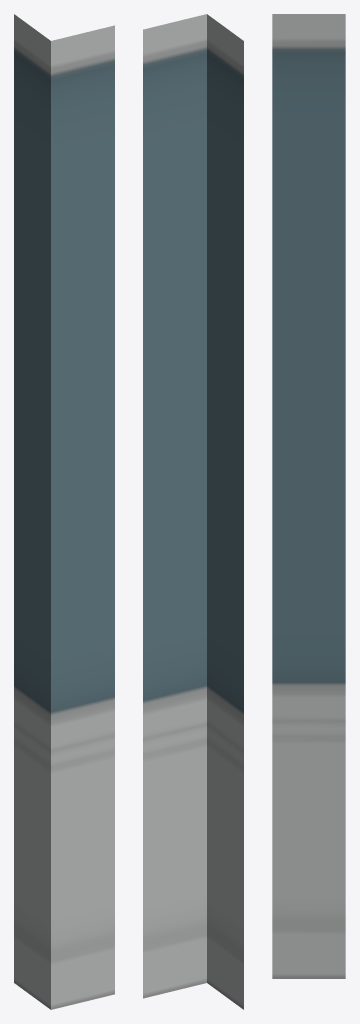
File: SM_Bld_House_InteriorWall_Corner_01.fbx
3 renders of one model, left to right at view 1: azimuth 30°, elevation 25°; view 2: azimuth 210°, elevation 25°; view 3: azimuth 270°, elevation 25°, orthographic.
Parts seen in each view (by area): view 1: SM_Bld_House_InteriorWall_Corner_01; view 2: SM_Bld_House_InteriorWall_Corner_01; view 3: SM_Bld_House_InteriorWall_Corner_01.
Boxes of the visible parts, x1,y1,x2,y2 form: SM_Bld_House_InteriorWall_Corner_01: (14,14,114,1009); SM_Bld_House_InteriorWall_Corner_01: (143,14,243,1009); SM_Bld_House_InteriorWall_Corner_01: (272,14,345,978).
Bounding box in the file's own units: 20 × 290 × 20.
